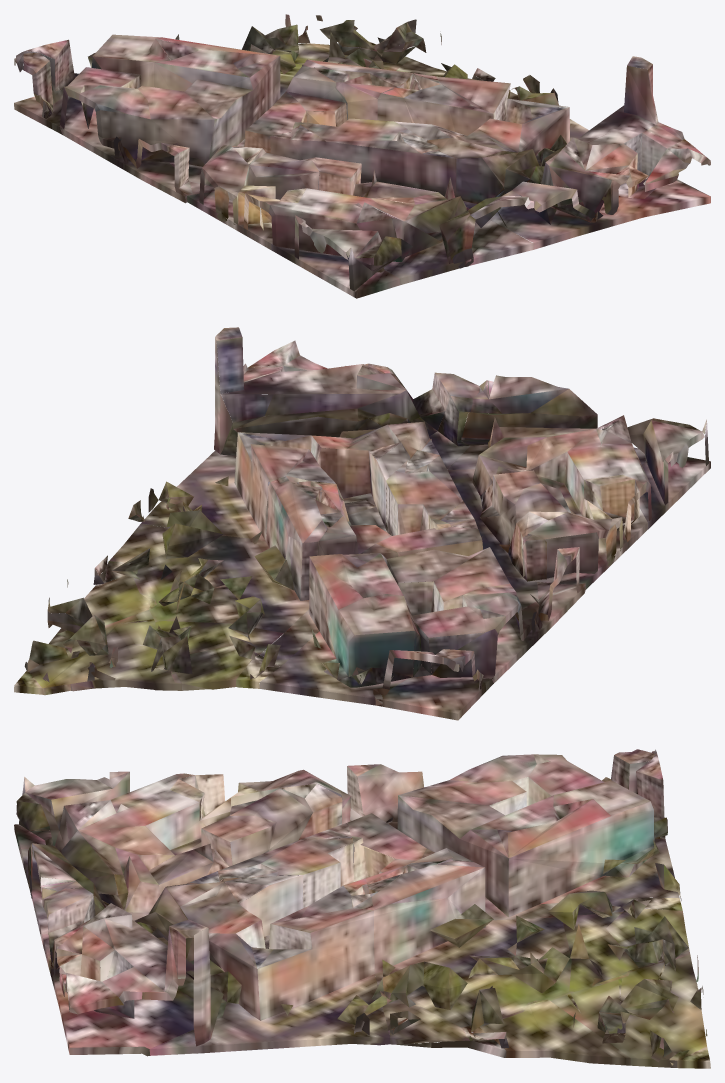
3 renders of one model, top to bottom at view 1: azimuth 30°, elevation 25°; view 2: azimuth 150°, elevation 25°; view 3: azimuth 270°, elevation 25°, orthographic. The views are drawn at different scales.
Visible parts, largest first — view 1: Mesh_0; view 2: Mesh_0; view 3: Mesh_0.
Boxes of the visible parts, <box> form: Mesh_0: <box>14,14,710,298</box>; Mesh_0: <box>14,327,710,720</box>; Mesh_0: <box>14,749,710,1068</box>.
Size of the model in its own units: 266 by 85.22 by 330.
Materials: 2 (2 with a texture image).
